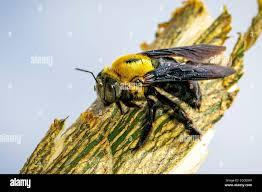Xylocopa: (77, 37, 224, 134)
